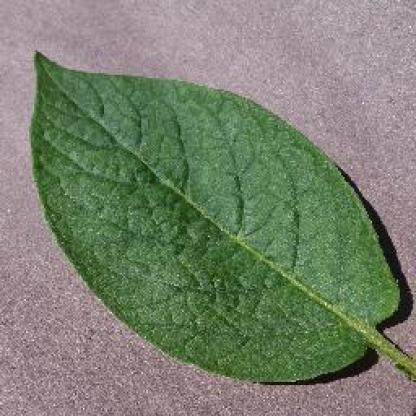good leaf: (0, 39, 415, 404)
